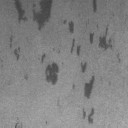red iron: (64, 0, 112, 56), (72, 62, 94, 124), (14, 0, 52, 30), (0, 33, 20, 66), (42, 54, 59, 85), (116, 54, 120, 62), (24, 74, 28, 80), (14, 122, 18, 128)
